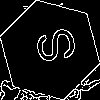S: (25, 25, 79, 69)
